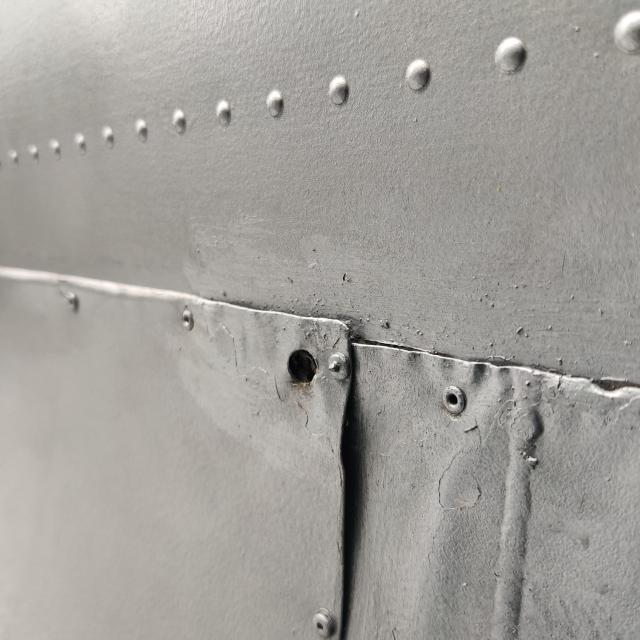missing-head: (252, 305, 370, 422)
